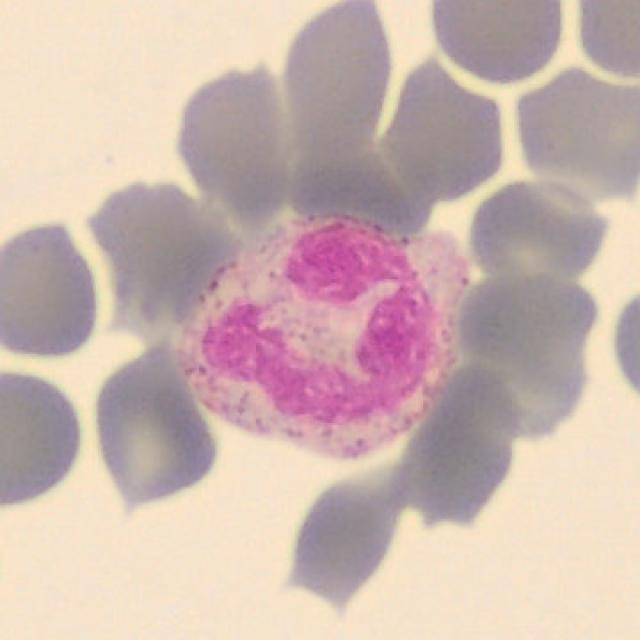Neutrofilo segmentado: (176, 215, 471, 462)
